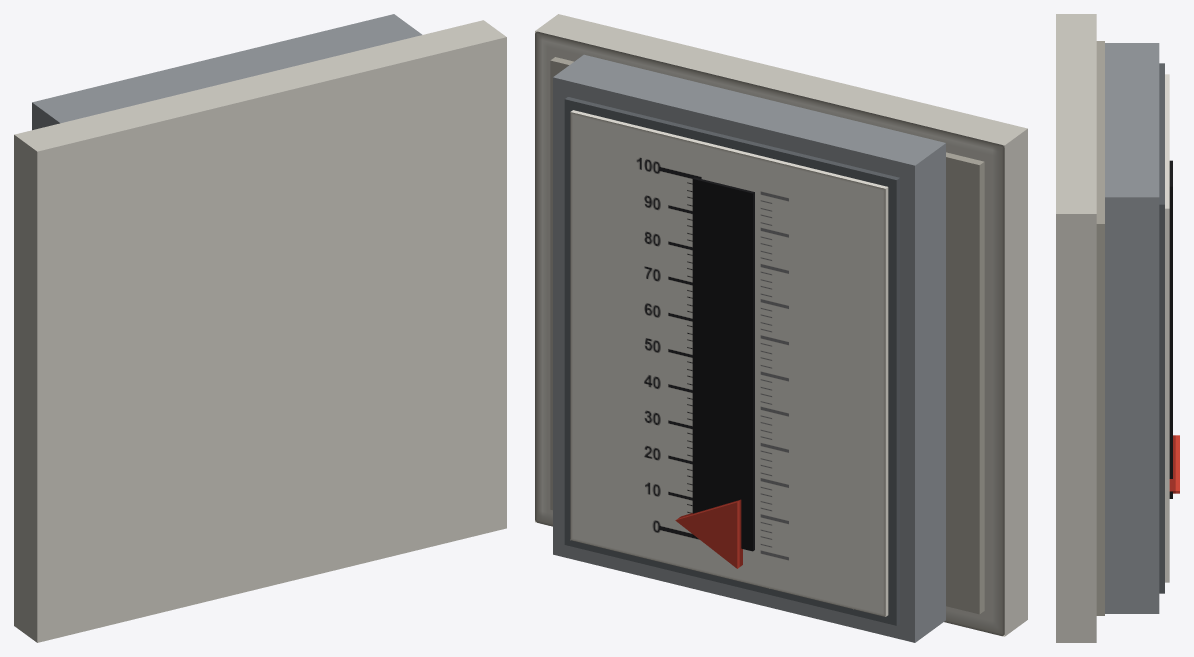
File: gauge_0.obj
3 renders of one model, left to right at view 1: azimuth 30°, elevation 25°; view 2: azimuth 150°, elevation 25°; view 3: azimuth 270°, elevation 25°, orthographic. The views are drawn at different scales.
Parts seen in each view (by area): view 1: Panel, Frame; view 2: Face, Panel, Frame, Needle; view 3: Frame, Panel, Face, Needle.
Boxes of the visible parts, box(x1,y1,x2,y2) form: Panel: box(14, 20, 506, 642); Frame: box(32, 14, 422, 130); Face: box(570, 110, 888, 616); Panel: box(535, 14, 1027, 636); Frame: box(553, 54, 945, 642); Needle: box(675, 499, 742, 568); Frame: box(1105, 43, 1164, 613); Panel: box(1056, 14, 1104, 642); Face: box(1165, 74, 1172, 582); Needle: box(1169, 435, 1179, 493).
Size of the model in its own units: 0.875 by 0.875 by 0.2288.
1 material, 1 textured.
